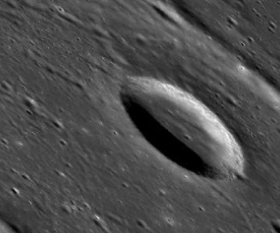crater: (81, 43, 260, 211)
